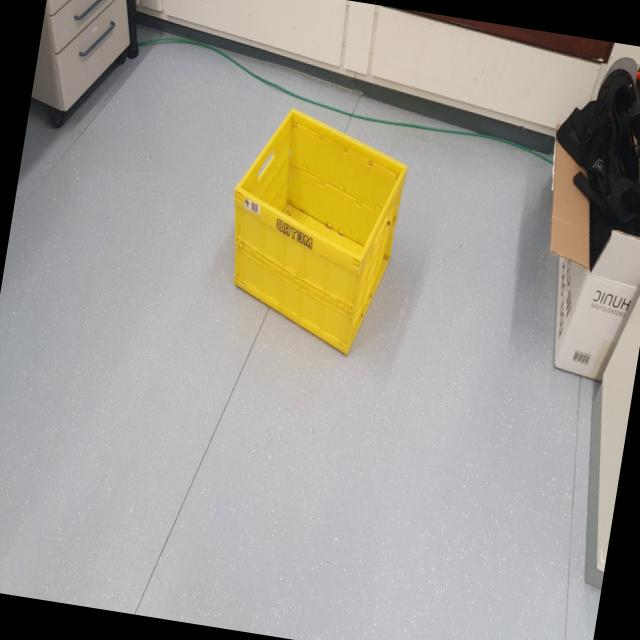box: (208, 98, 415, 372)
